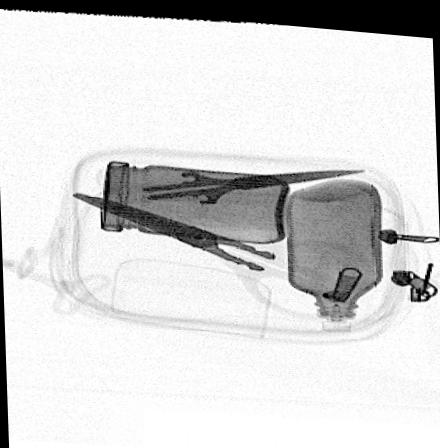Scissors: (66, 189, 373, 313), (130, 160, 369, 218)
